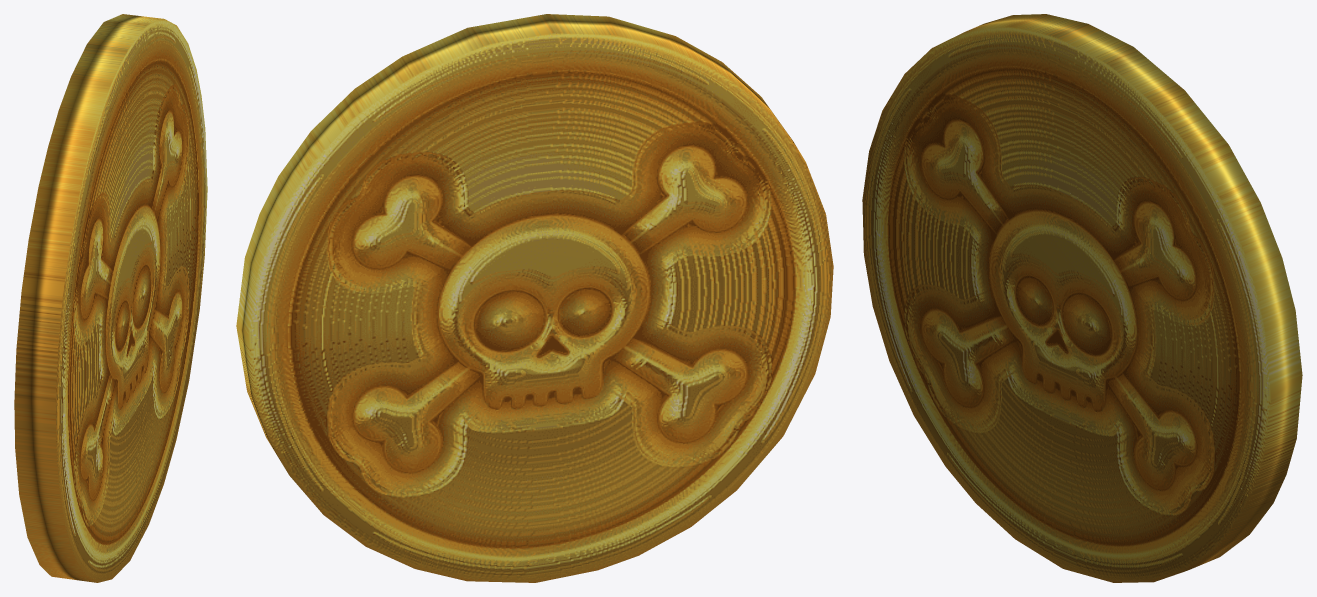
The model's file is Coin3.glb.
3 views of the same model, side by side, from view 1: azimuth 30°, elevation 25°; view 2: azimuth 150°, elevation 25°; view 3: azimuth 270°, elevation 25° (orthographic). The views are drawn at different scales.
Parts seen in each view (by area): view 1: Cylinder.006; view 2: Cylinder.006; view 3: Cylinder.006.
Boxes of the visible parts, x1=… form: Cylinder.006: x1=14, y1=14, x2=207, y2=582; Cylinder.006: x1=236, y1=14, x2=833, y2=582; Cylinder.006: x1=862, y1=14, x2=1302, y2=582.
Size of what is drawn, in the model's own units: 1.17 by 1.53 by 1.15.
1 material, 1 textured.
